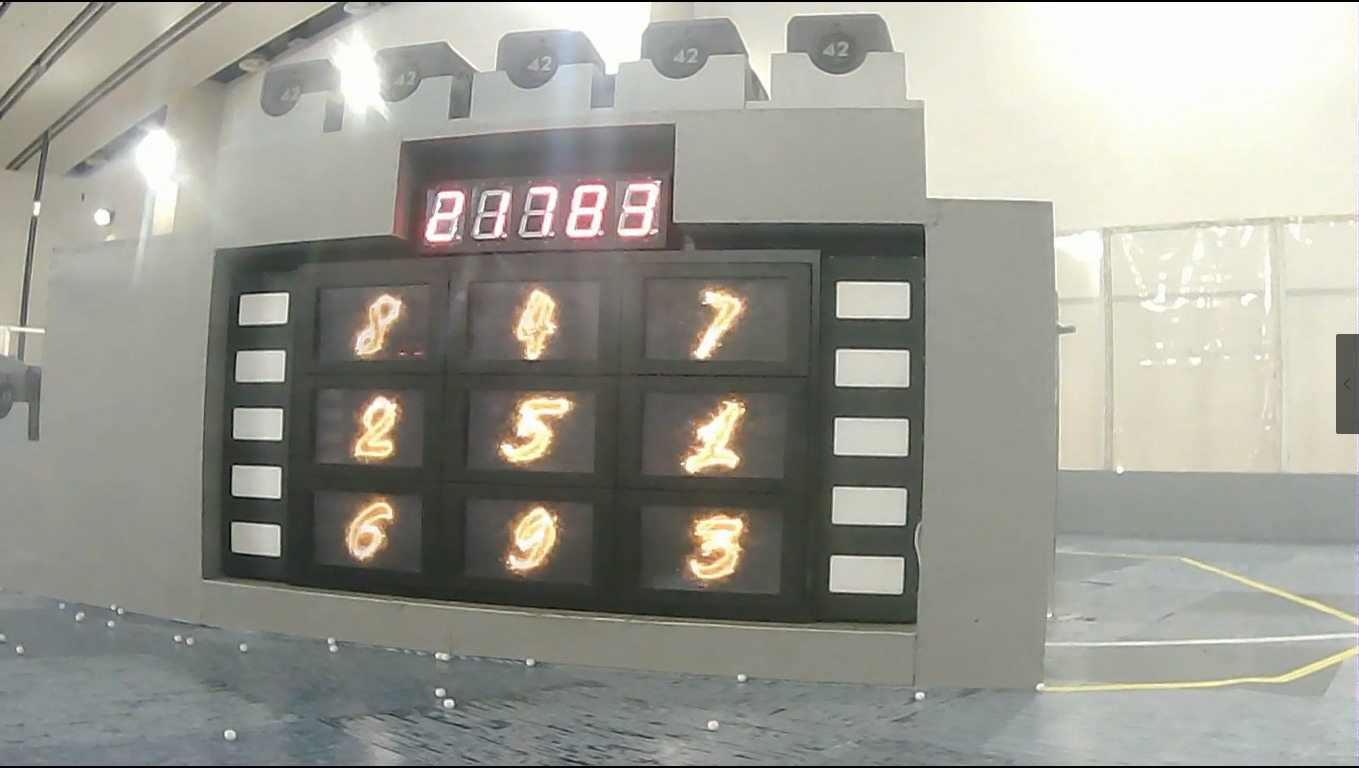box: (367, 41, 477, 115), (640, 18, 752, 89), (492, 29, 608, 96), (785, 10, 895, 75), (256, 60, 346, 118)
